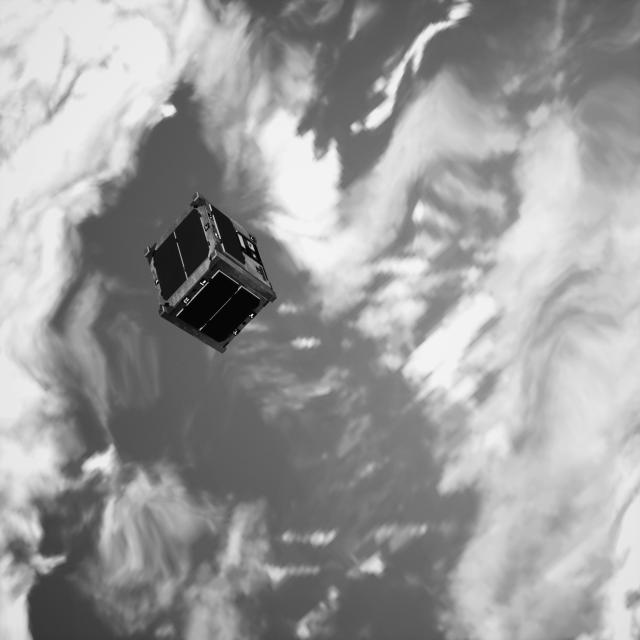medium_debris: (136, 187, 276, 361)
